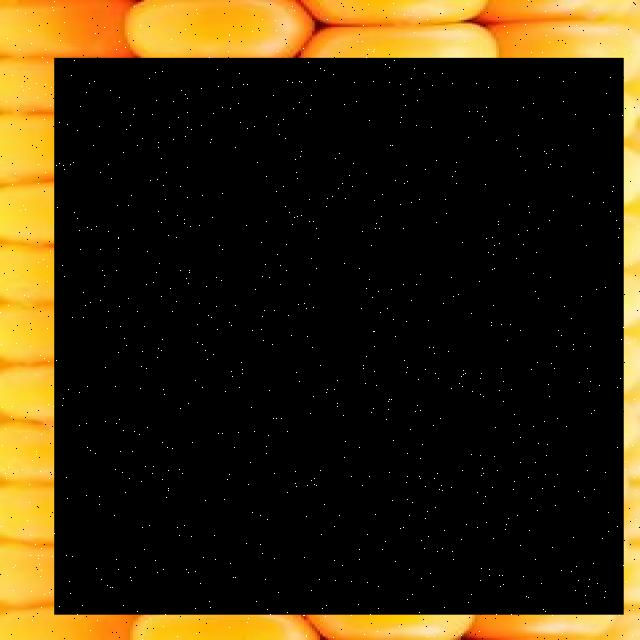Corn: (55, 59, 624, 616)
